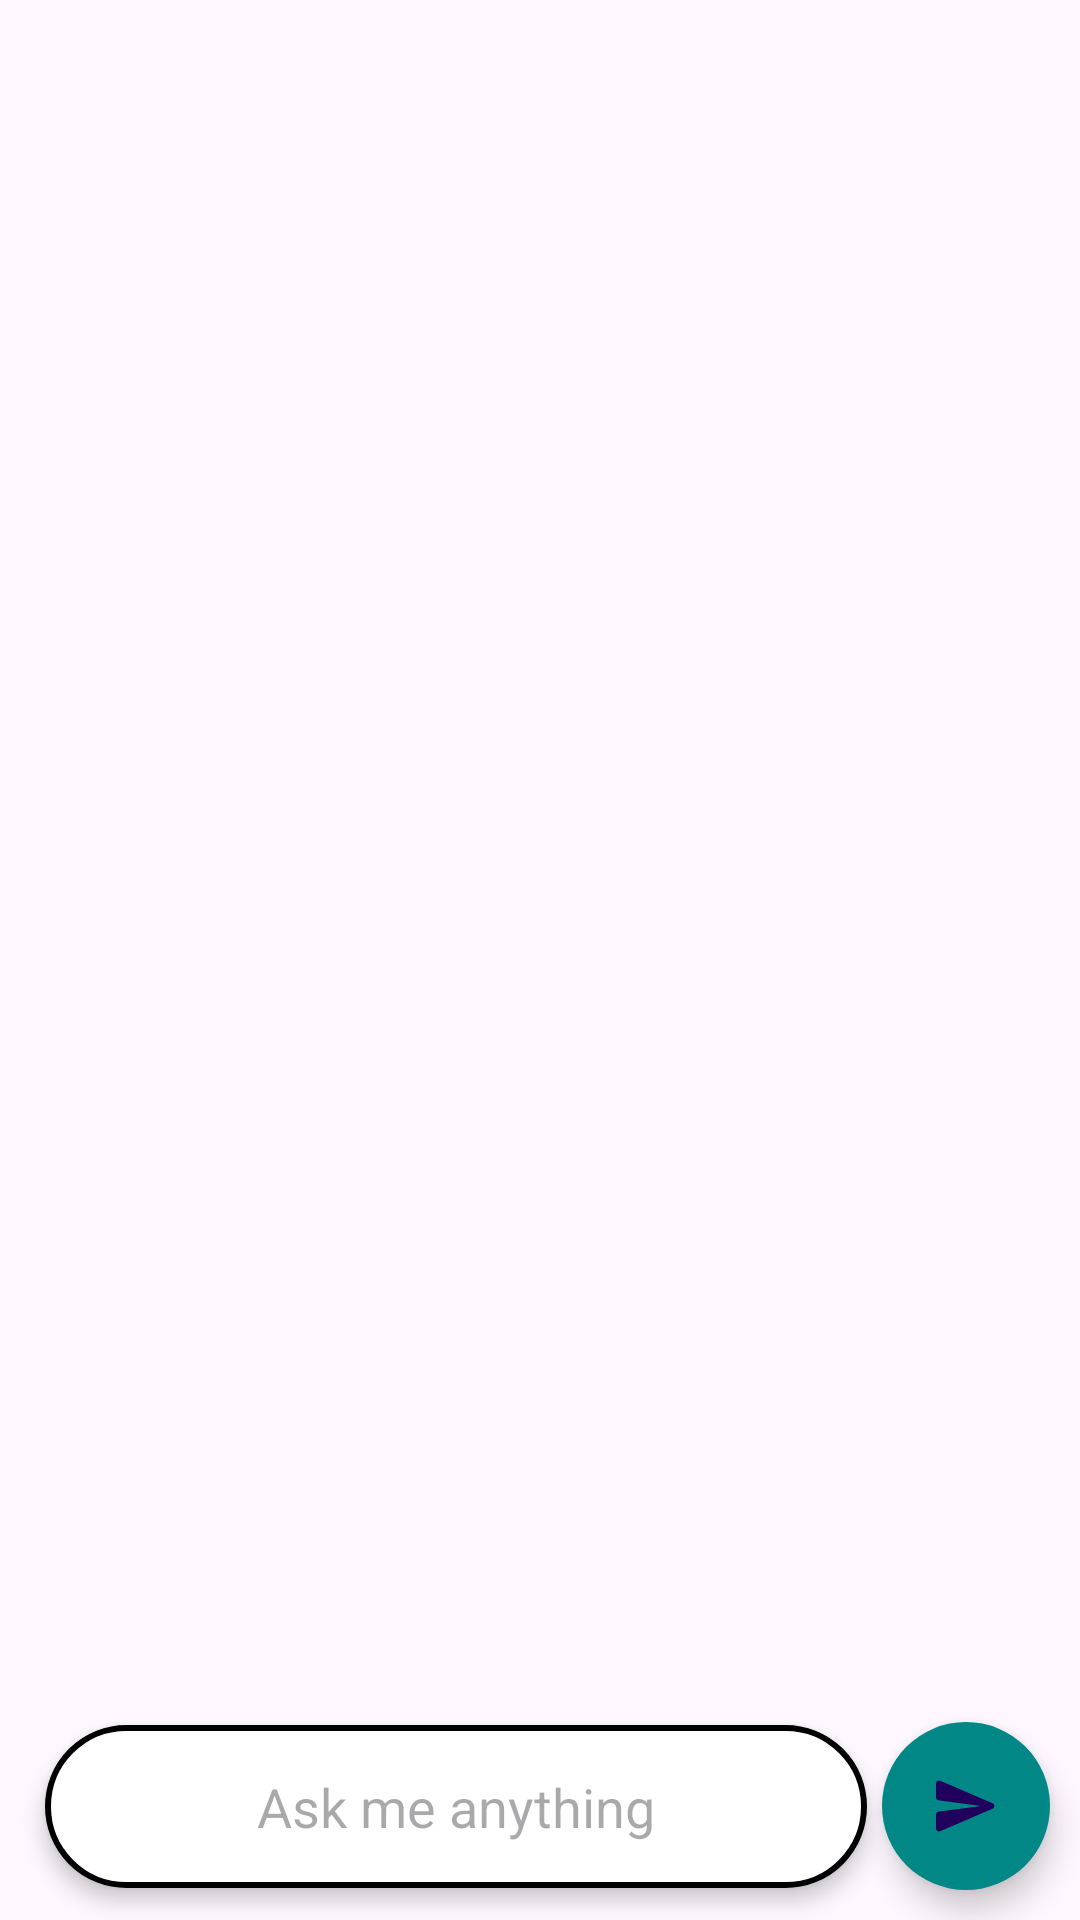

Point at icon controls on the screen. Image size 1080w x 1920h, points as [x,y].
send: [966,1806]
